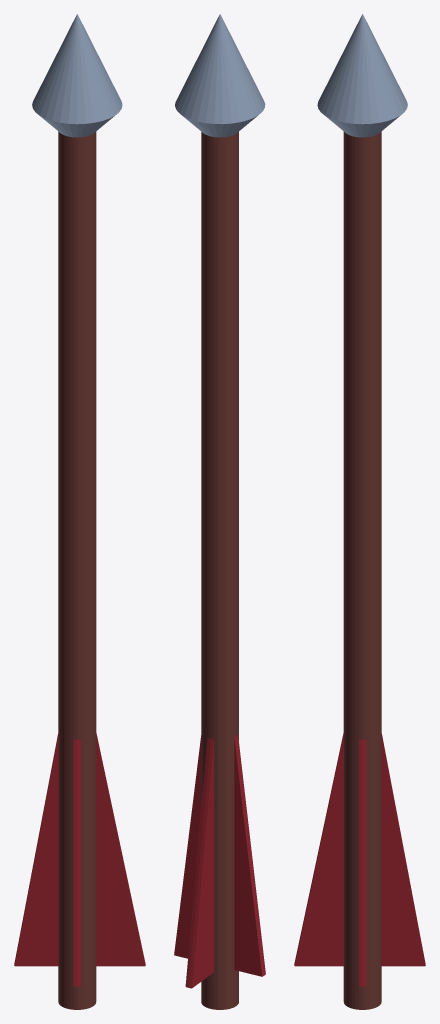
Rendered from flecha.fbx.
The picture shows the model from 3 angles, left to right: view 1: azimuth 90°, elevation 25°; view 2: azimuth 150°, elevation 25°; view 3: azimuth 270°, elevation 25°; orthographic projection.
Parts seen in each view (by area): view 1: flecha; view 2: flecha; view 3: flecha.
Boxes of the visible parts, left/top/right/bottom form: flecha: left=14, top=14, right=145, bottom=1009; flecha: left=174, top=14, right=265, bottom=1009; flecha: left=294, top=14, right=425, bottom=1009.
Size of the model in its own units: 6.73 by 71.55 by 8.64.
Materials: 1 (1 with a texture image).
